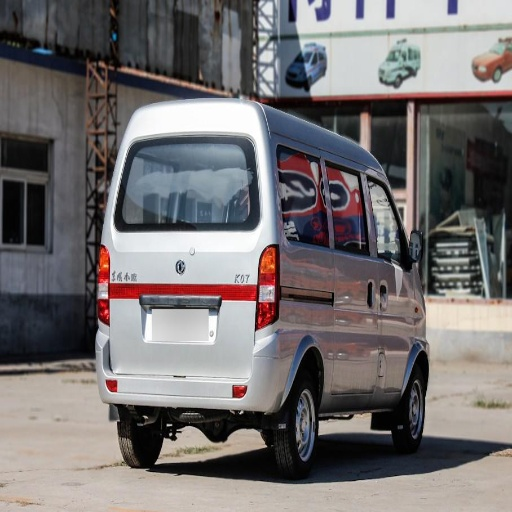back_bumper: (100, 323, 292, 410)
back_left_light: (94, 244, 109, 324)
trunk: (99, 235, 265, 384), (269, 293, 365, 398), (377, 299, 417, 379)
